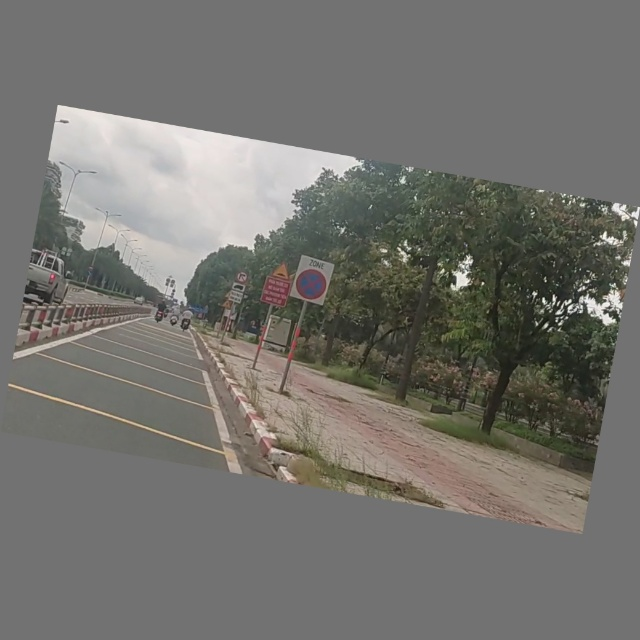P.123b: (235, 271, 248, 284)
P.130: (290, 254, 333, 306)
S.505a*Xe tai: (228, 282, 245, 305)
W.221b: (270, 260, 292, 282)
